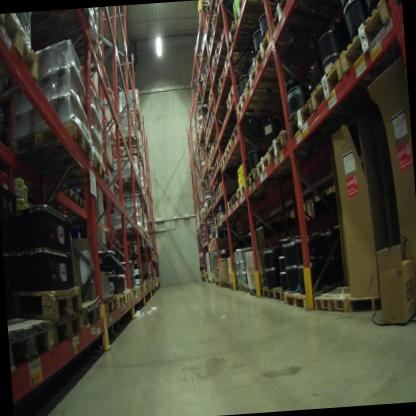pallet: (5, 111, 94, 180), (335, 0, 398, 87), (0, 13, 51, 108), (9, 272, 90, 326), (36, 25, 110, 84), (250, 27, 332, 75), (34, 148, 109, 196), (266, 0, 329, 49), (8, 316, 54, 380), (308, 63, 358, 120), (243, 58, 306, 101), (234, 79, 288, 121), (223, 16, 273, 61), (31, 9, 99, 41), (311, 279, 363, 319), (49, 310, 88, 357), (285, 99, 318, 148), (205, 34, 245, 66), (261, 273, 298, 306), (221, 51, 261, 80), (224, 137, 270, 161), (233, 0, 273, 26), (282, 287, 315, 318), (229, 119, 269, 143), (267, 133, 293, 169), (76, 298, 103, 329), (113, 176, 146, 201), (93, 287, 117, 317), (207, 13, 237, 35), (255, 149, 273, 182), (210, 42, 236, 63), (245, 164, 263, 194), (219, 151, 246, 170), (108, 134, 140, 150), (214, 211, 242, 229), (52, 174, 72, 198), (209, 64, 228, 89), (205, 90, 228, 110), (207, 119, 233, 136), (122, 151, 147, 168), (216, 71, 236, 92), (217, 178, 238, 198), (210, 108, 238, 123), (248, 283, 268, 303), (193, 73, 212, 93), (214, 132, 232, 153), (192, 87, 213, 105), (113, 287, 127, 313), (225, 82, 239, 108), (200, 112, 221, 129), (213, 0, 239, 13), (204, 128, 220, 147), (236, 181, 249, 204), (127, 106, 142, 124), (121, 286, 134, 304), (67, 183, 78, 203), (203, 62, 215, 79), (215, 154, 227, 170), (225, 196, 234, 217), (78, 192, 87, 213), (230, 190, 239, 210), (126, 287, 138, 302), (211, 161, 223, 176), (200, 76, 209, 95), (208, 142, 216, 163), (236, 281, 246, 297), (106, 161, 116, 176), (242, 280, 250, 297), (221, 275, 228, 290), (139, 282, 146, 297), (208, 170, 215, 184), (214, 279, 222, 291), (231, 279, 237, 293), (214, 188, 220, 202), (210, 193, 217, 205), (226, 278, 232, 291), (136, 285, 142, 298), (204, 276, 211, 286), (206, 198, 212, 207)
